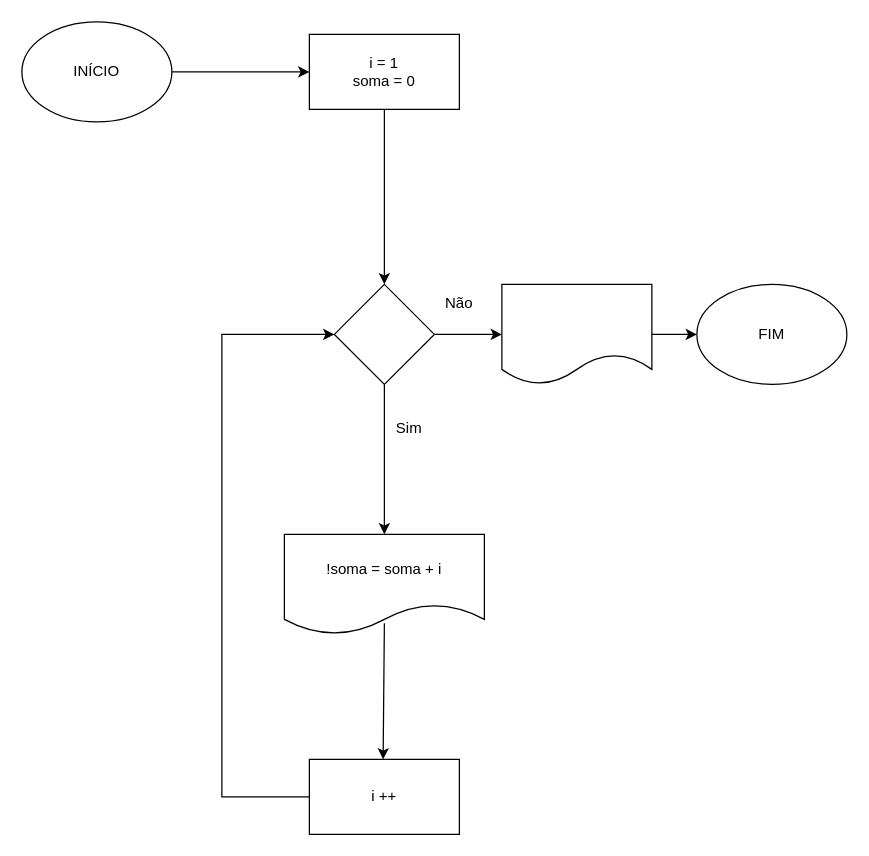
The diagram is 869 pixels wide and 856 high, and some of its shapes have lost their labels. Here are the shapes that lost their labels. From the top down, the centre of each, then its label:
(x=383, y=333): i <= 15
(x=576, y=333): soma
